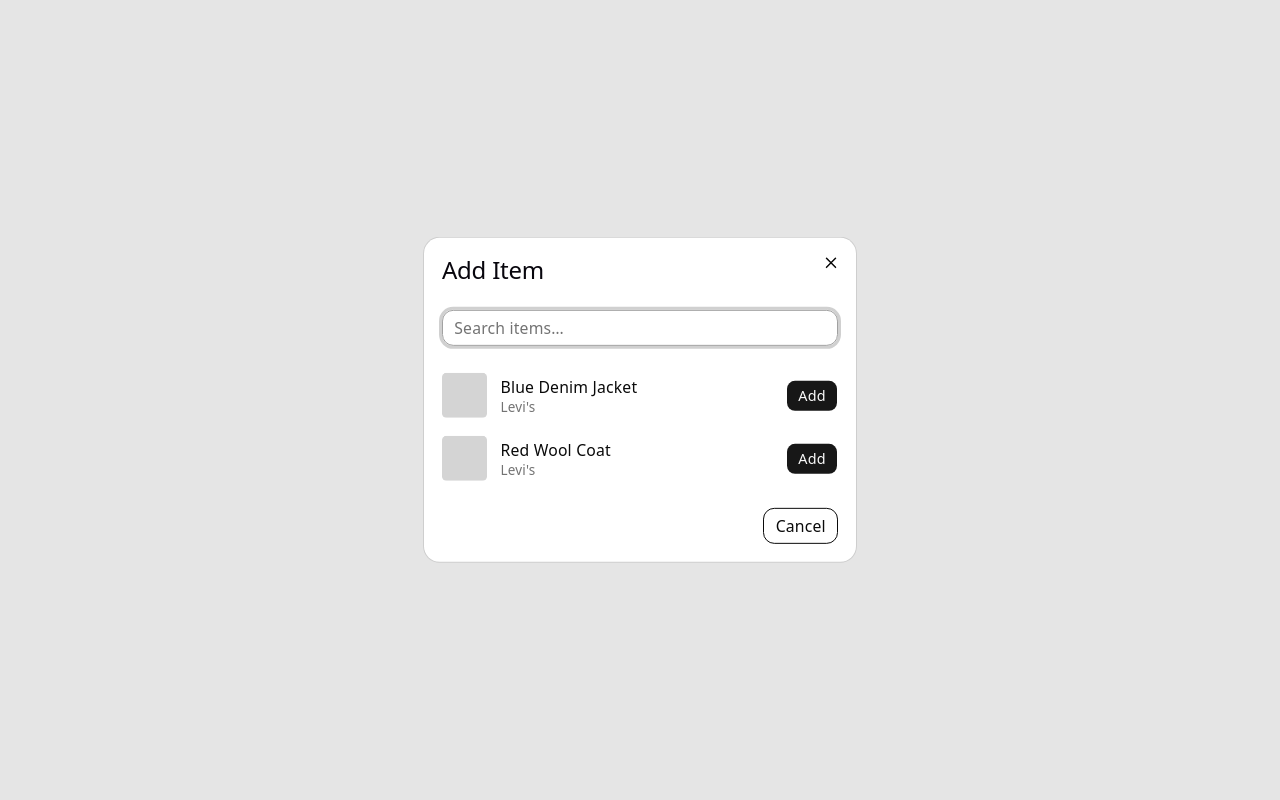
ItemPicker › ItemPicker should show item-picker-empty testid when no items match search
The image size is (1280, 800).
Expected: the text "Blue Denim Jacket" is shown, [500,375,637,397]
Type "zzznomatch" into the field with placeholder "Search items…" at (640, 328), box [442,310,838,346]
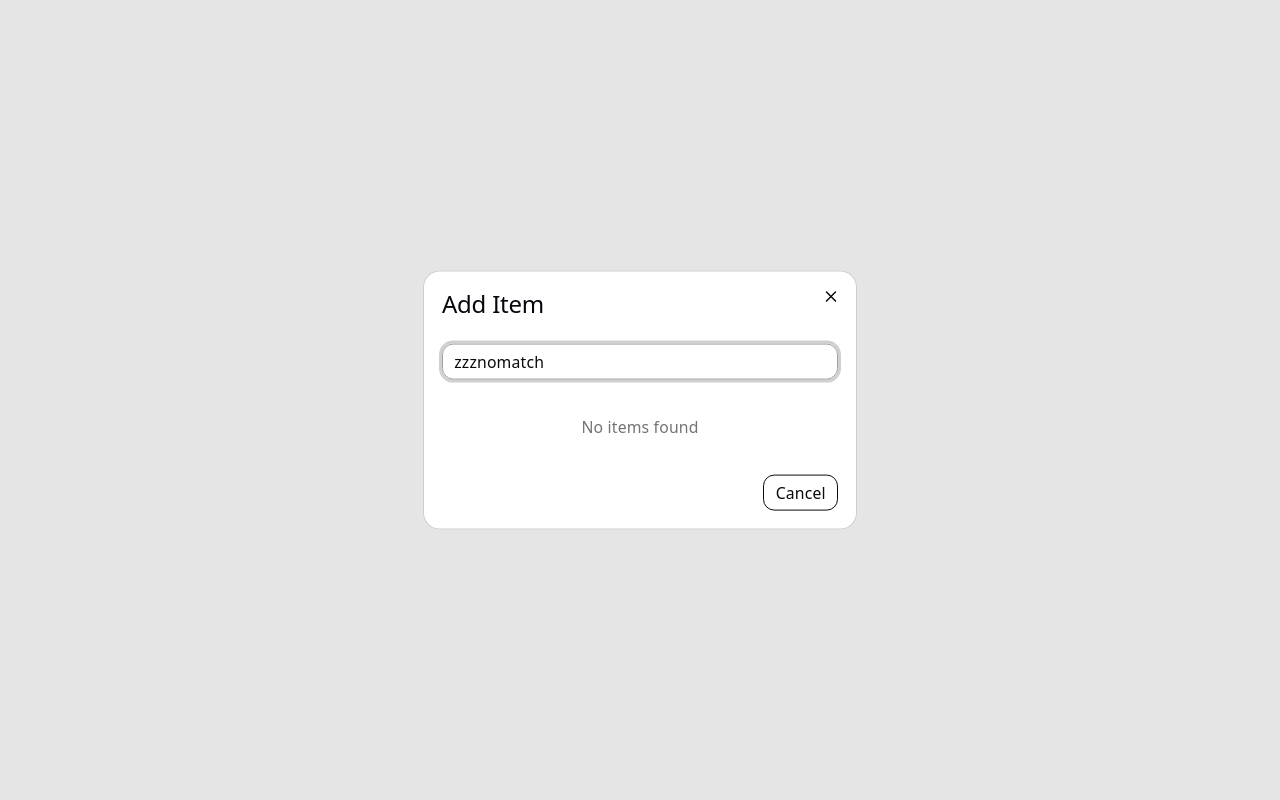
Expected: the text "No items found" is shown, [581,416,699,438]
